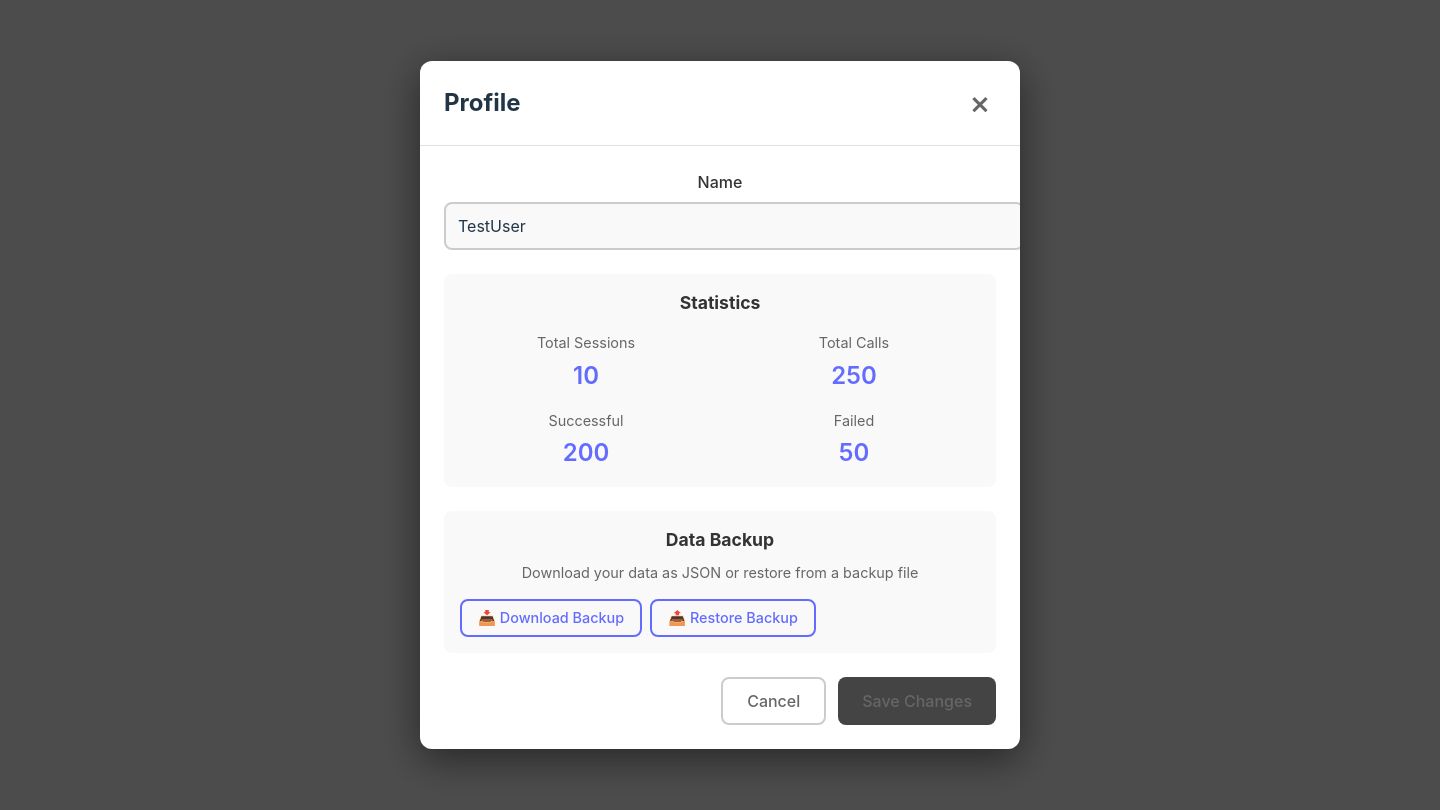
it: ProfileModal › enables save button when valid changes are made
Clear the field labelled "Name". click: (734, 226)
box: [444,202,1024,250]
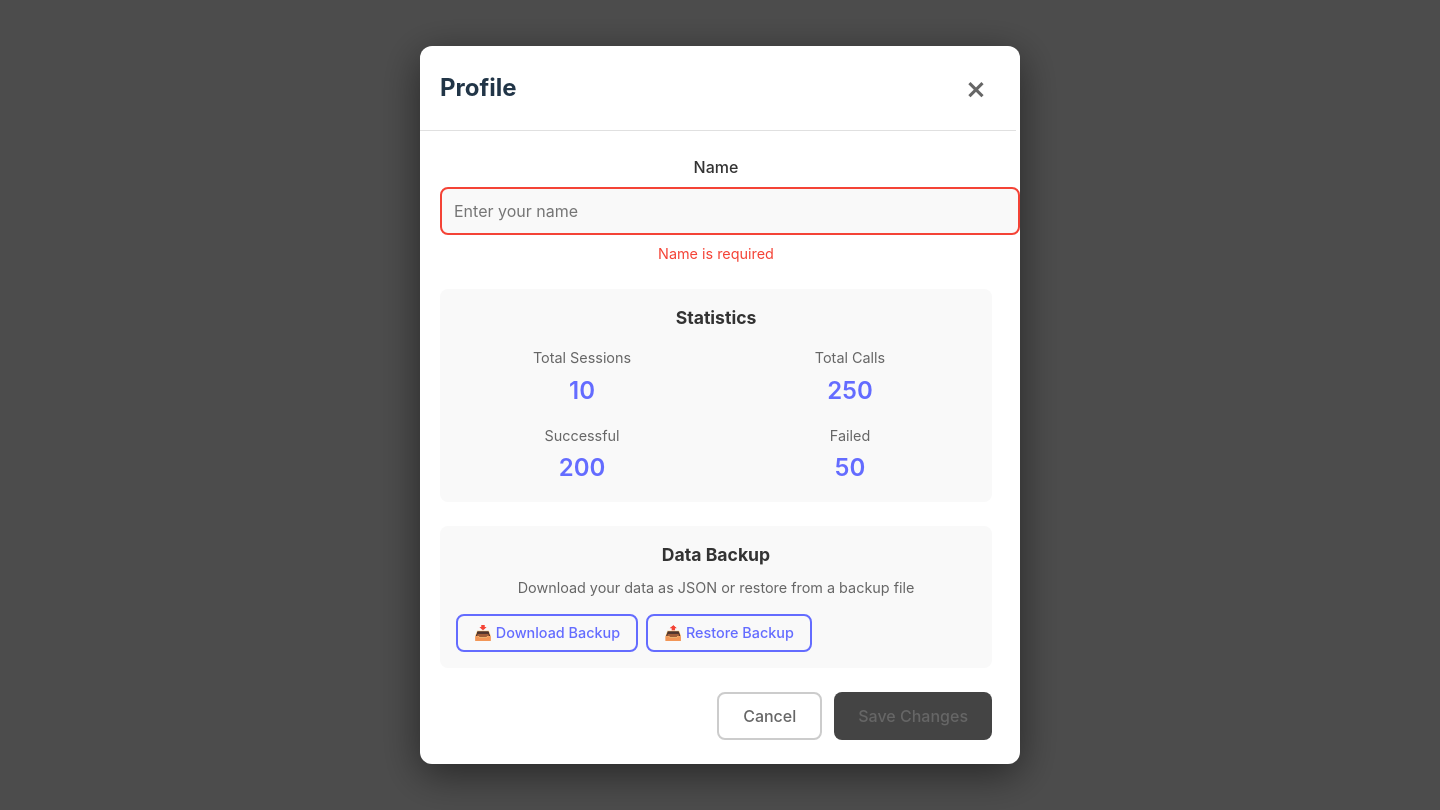
Type "NewValidName" into the field labelled "Name". click: (730, 211)
box: [440,187,1020,235]
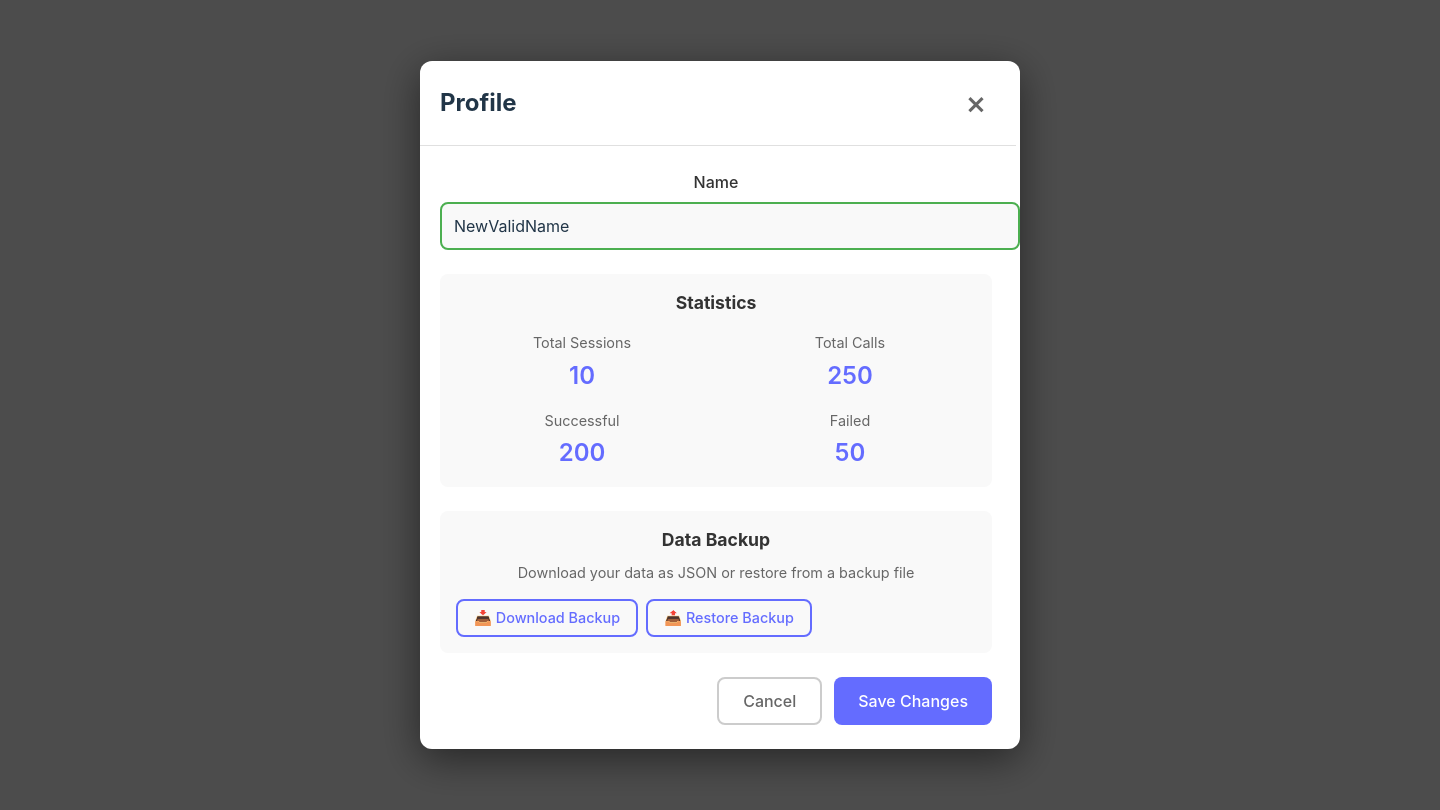
Result: the button "Save Changes" is enabled at [834,677,992,725]
